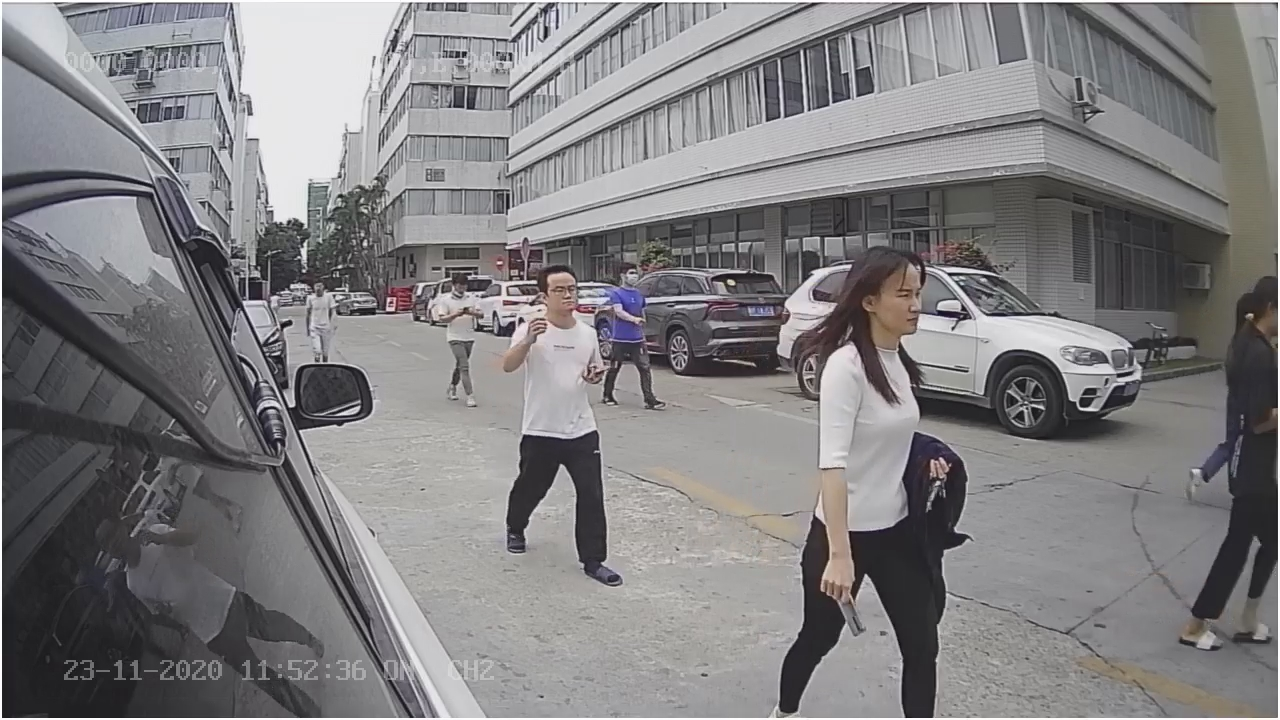person: (797, 237, 945, 701), (499, 261, 609, 593)
